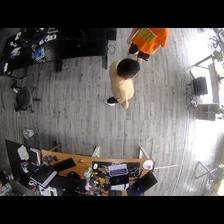normal: (105, 58, 140, 110)
